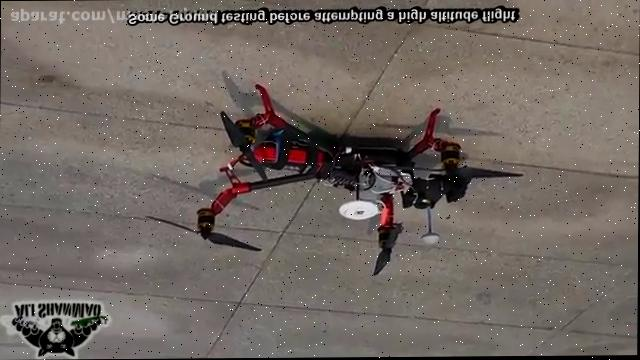drone: (138, 76, 528, 280)
